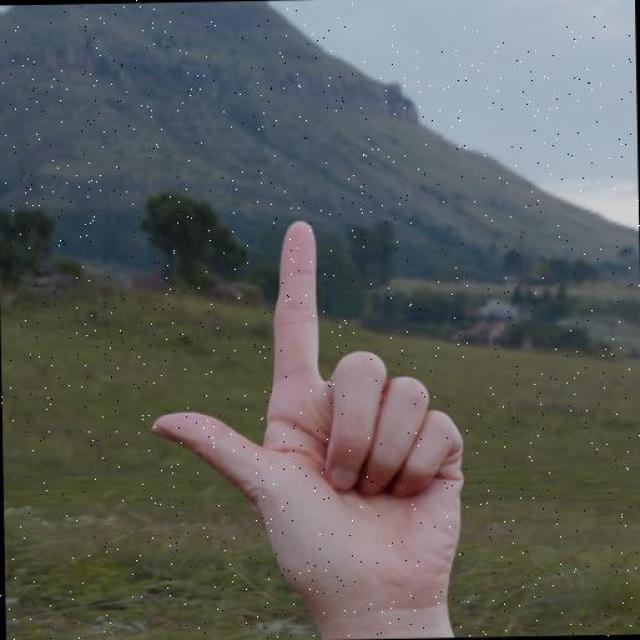L: (138, 212, 470, 640)
